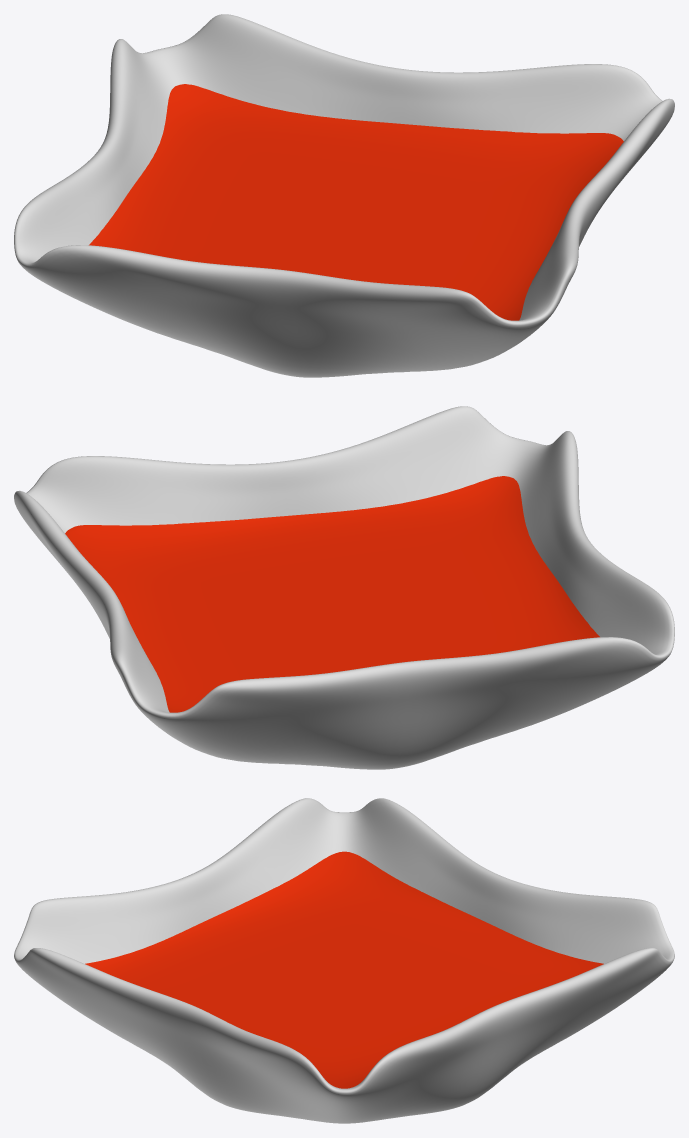
The model's file is пиала.fbx.
3 views of the same model, one above another, from view 1: azimuth 30°, elevation 25°; view 2: azimuth 150°, elevation 25°; view 3: azimuth 270°, elevation 25° (orthographic). The views are drawn at different scales.
Visible parts, largest first — view 1: пиала_LOD0, соус_LOD0; view 2: пиала_LOD0, соус_LOD0; view 3: пиала_LOD0, соус_LOD0.
Part boxes in pixels (x1=…): пиала_LOD0: x1=14, y1=14, x2=674, y2=377; соус_LOD0: x1=89, y1=84, x2=623, y2=320; пиала_LOD0: x1=14, y1=406, x2=674, y2=769; соус_LOD0: x1=65, y1=476, x2=599, y2=712; пиала_LOD0: x1=14, y1=798, x2=674, y2=1123; соус_LOD0: x1=85, y1=851, x2=603, y2=1088.
Size of what is drawn, in the model's own units: 24.89 by 5.74 by 24.83.
